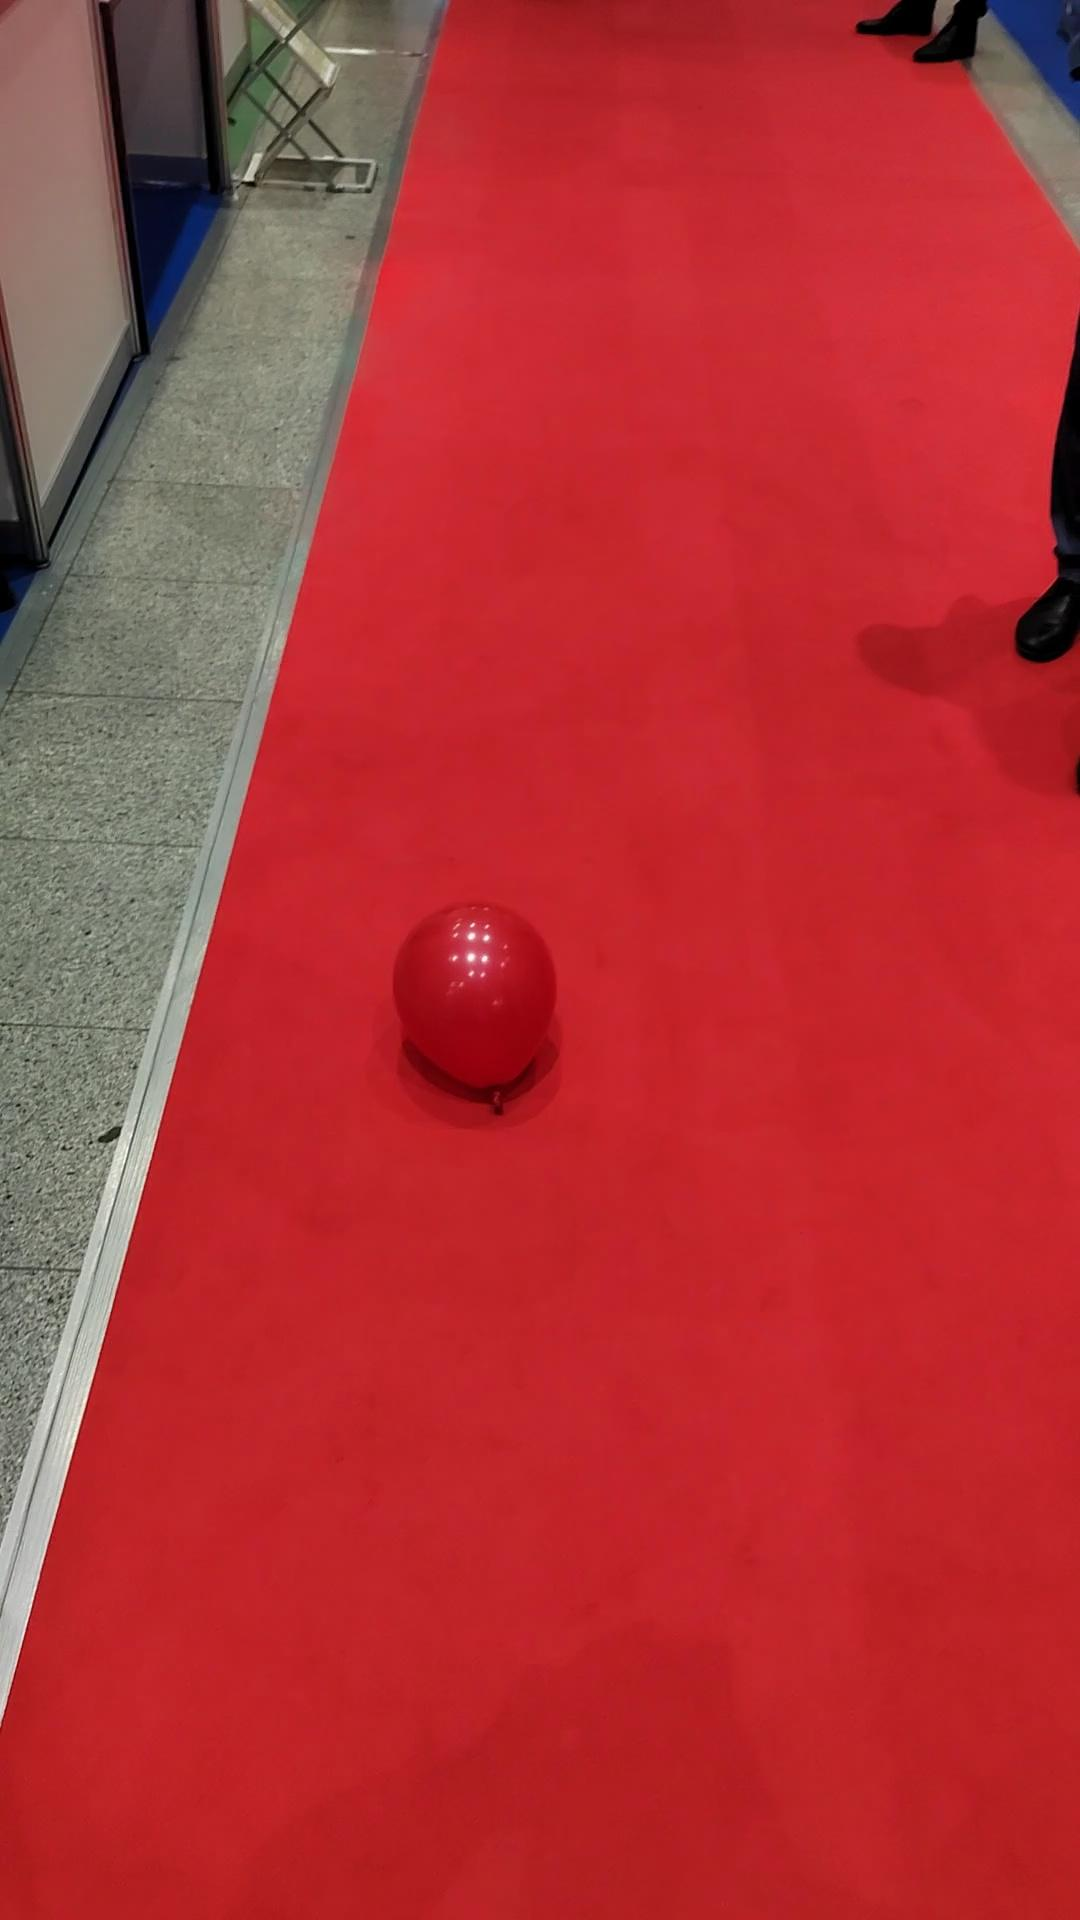red: (394, 903, 558, 1095)
